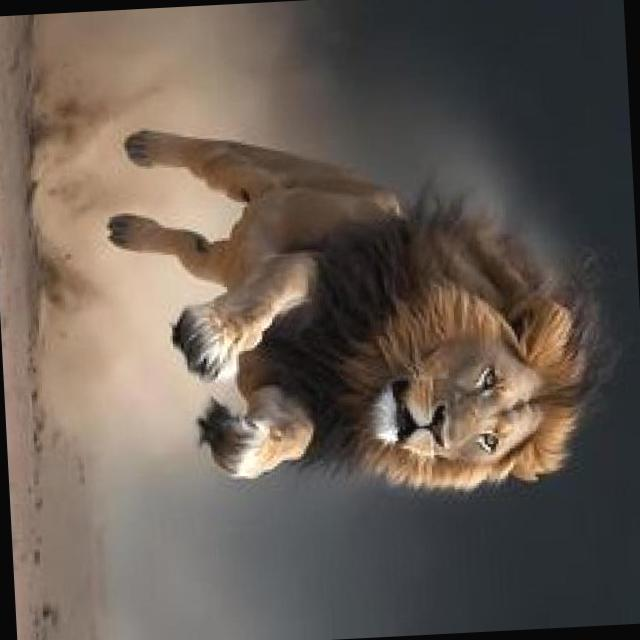lions: (55, 36, 624, 587)
